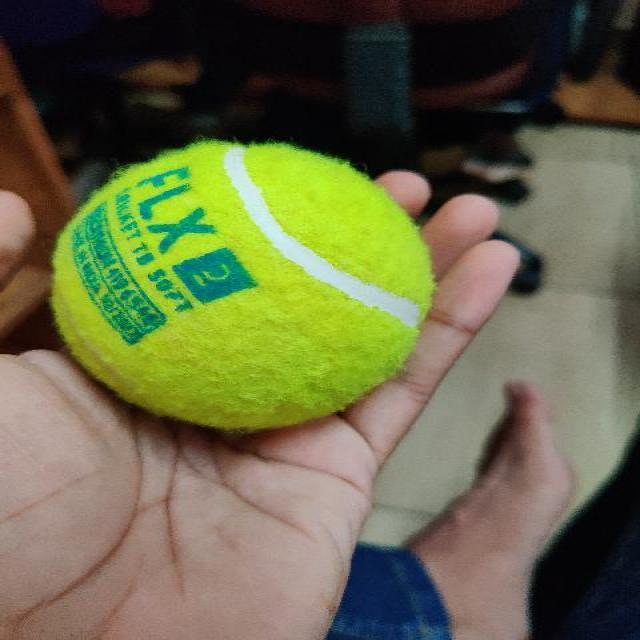tennis-ball: (52, 144, 431, 428)
